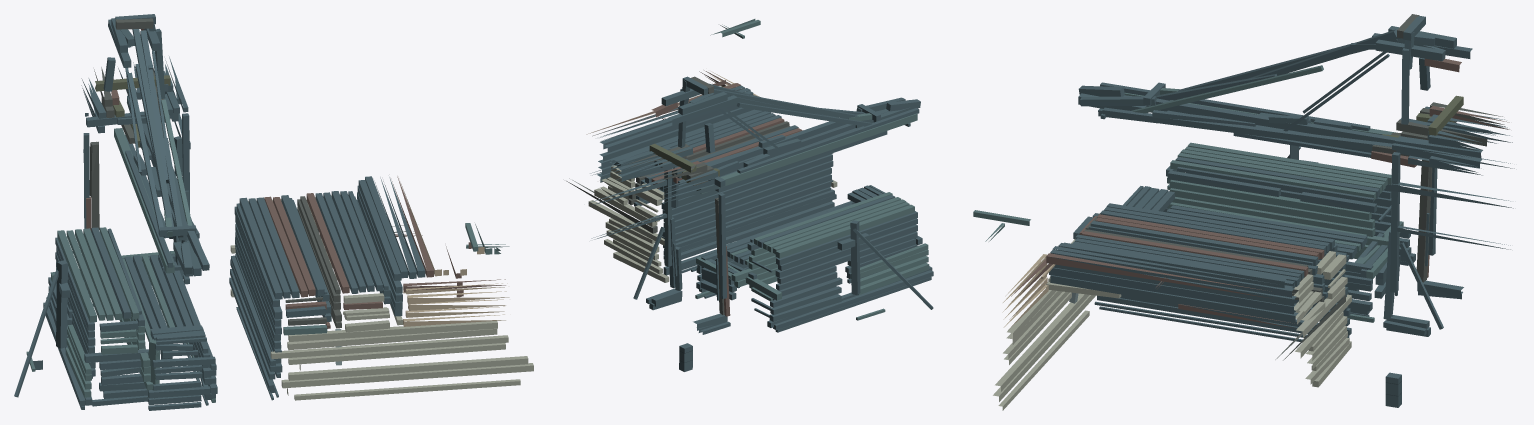
File: terminal-19---126_-27.glb
The picture shows the model from 3 angles, left to right: view 1: azimuth 30°, elevation 25°; view 2: azimuth 150°, elevation 25°; view 3: azimuth 270°, elevation 25°; orthographic projection. The views are drawn at different scales.
Parts seen in each view (by area): view 1: measured-industrial; view 2: measured-industrial; view 3: measured-industrial.
Boxes of the visible parts, x1,y1,x2,y2 form: measured-industrial: (14, 14, 533, 410); measured-industrial: (566, 19, 933, 371); measured-industrial: (973, 14, 1514, 410).
Bounding box in the file's own units: 115 × 90.98 × 124.
